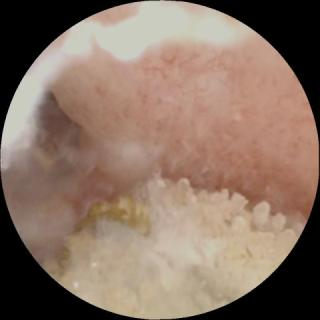stone: (44, 177, 304, 314)
tissue: (4, 5, 314, 251)
